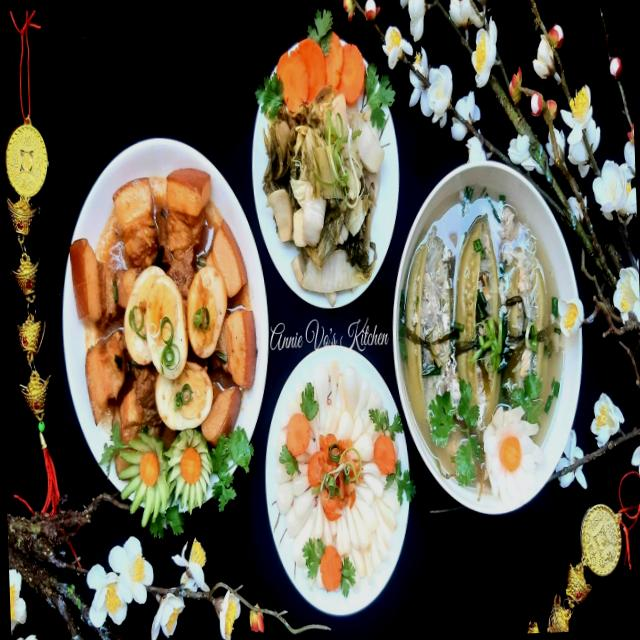kho qua: (397, 187, 564, 497)
kho trung: (69, 168, 256, 444)
